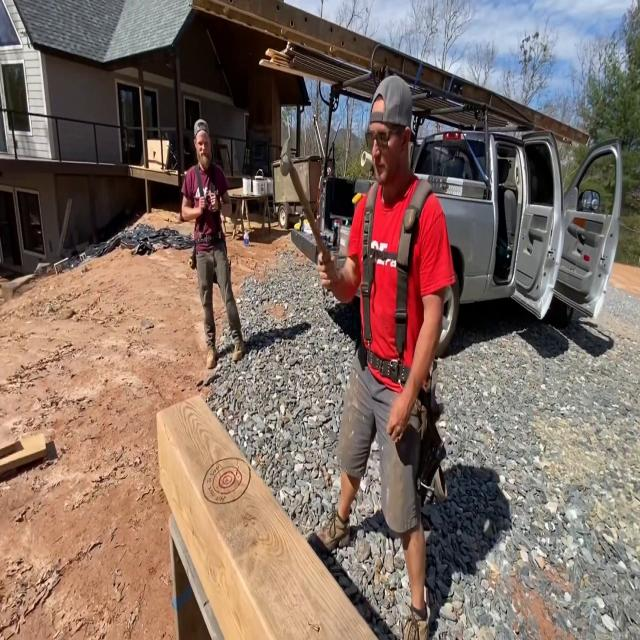hammer: (280, 135, 330, 263)
